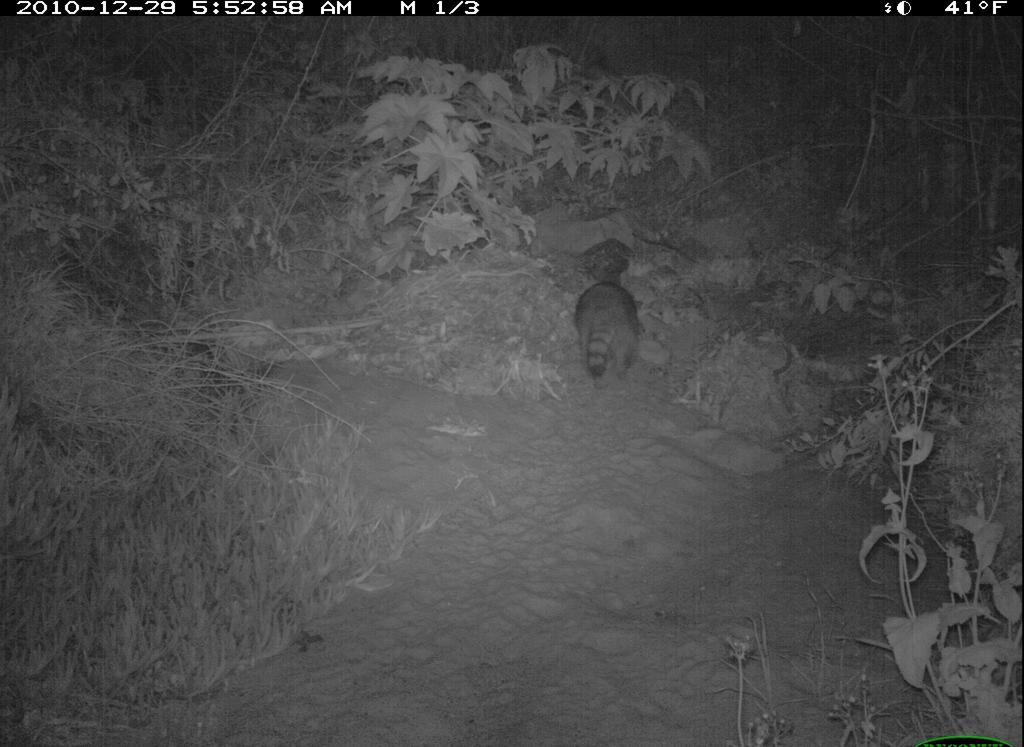raccoon: (541, 267, 653, 406)
